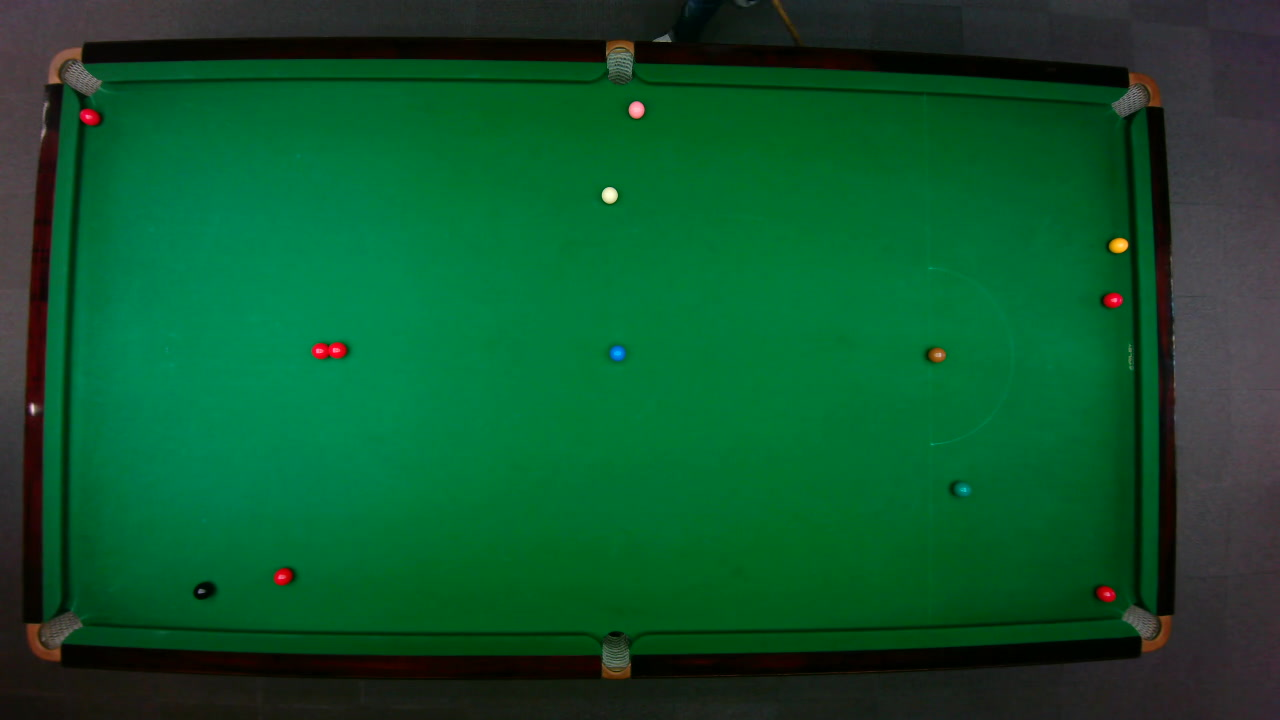bag: (25, 609, 83, 661), (45, 46, 102, 95), (1119, 603, 1171, 652), (1108, 71, 1161, 118), (601, 629, 629, 680), (605, 38, 633, 85)
black: (192, 581, 213, 600)
blue: (608, 344, 626, 361)
brown: (926, 346, 946, 362)
green: (950, 480, 972, 497)
pink: (626, 99, 645, 119)
red: (77, 107, 101, 126), (325, 340, 347, 359), (271, 566, 293, 585), (1093, 584, 1116, 602), (1101, 291, 1123, 308), (310, 341, 330, 359)
white: (599, 185, 619, 204)
yellow: (1107, 236, 1129, 253)
zone: (927, 265, 1013, 445)
